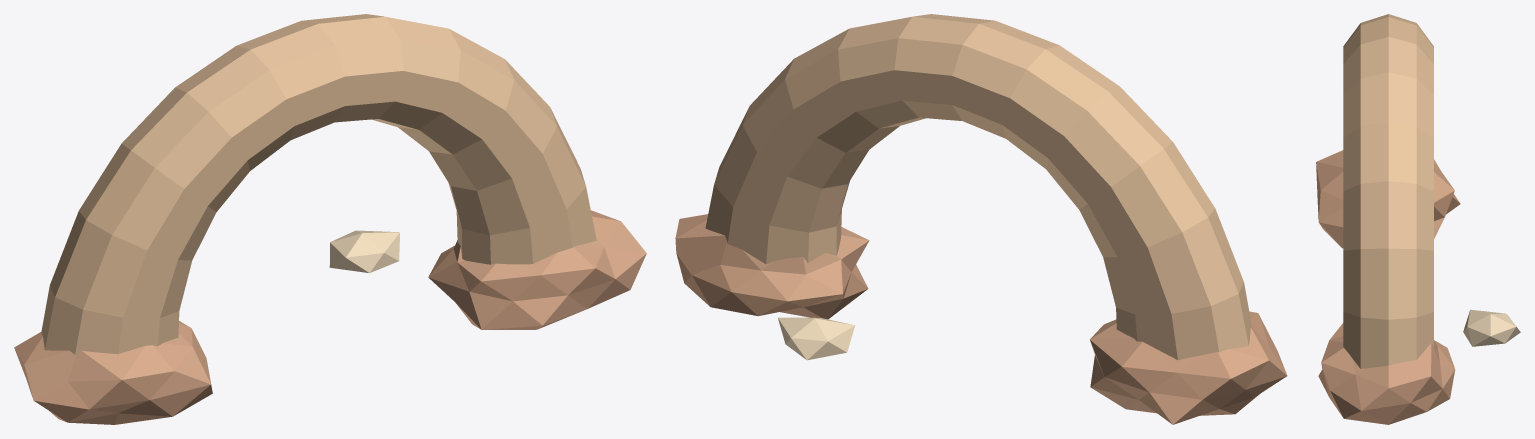
File: rock_arch.glb
3 views of the same model, side by side, from view 1: azimuth 30°, elevation 25°; view 2: azimuth 150°, elevation 25°; view 3: azimuth 270°, elevation 25° (orthographic). The views are drawn at different scales.
Parts seen in each view (by area): view 1: Rock_Arch; view 2: Rock_Arch; view 3: Rock_Arch.
Boxes of the visible parts, <box> form: Rock_Arch: <box>14,14,646,424</box>; Rock_Arch: <box>675,14,1287,424</box>; Rock_Arch: <box>1316,14,1520,424</box>.
Bounding box in the file's own units: 17.41 × 9.42 × 6.03.
